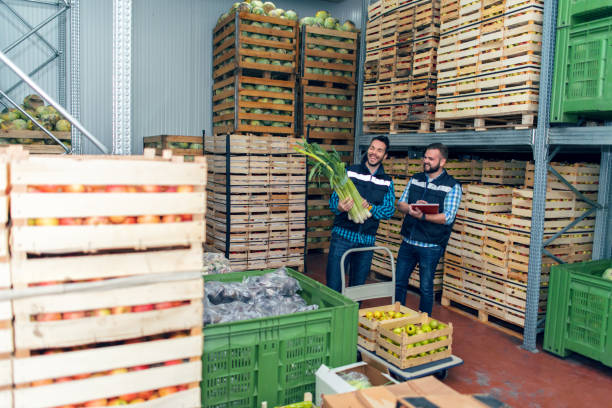unit_load: (214, 4, 310, 143)
